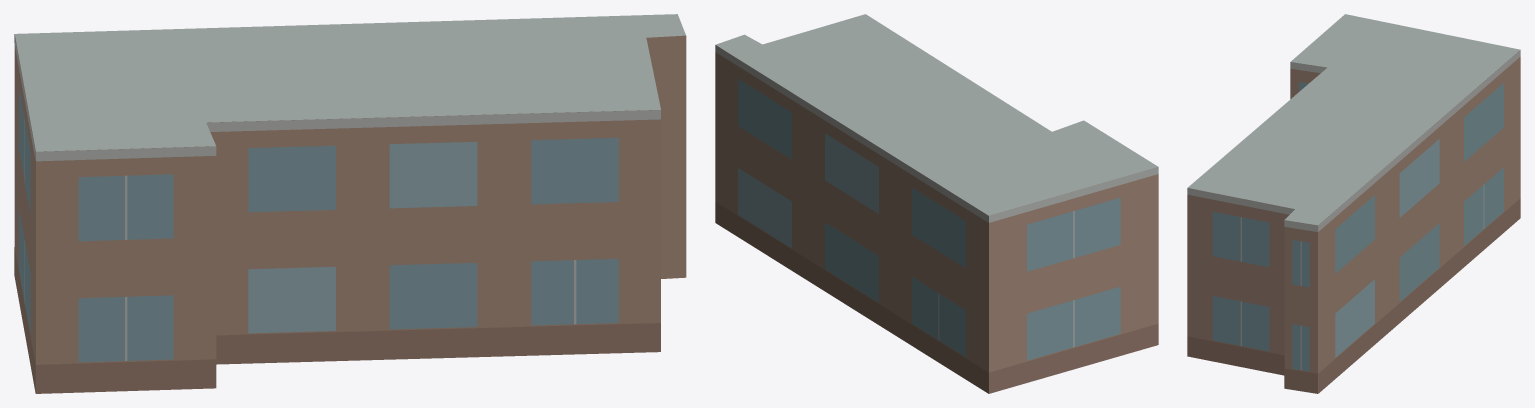
Rendered from survey-upis-32888228.glb.
The picture shows the model from 3 angles, left to right: view 1: azimuth 30°, elevation 25°; view 2: azimuth 150°, elevation 25°; view 3: azimuth 270°, elevation 25°; orthographic projection. The views are drawn at different scales.
Visible parts, largest first — view 1: survey-upis-32888228.tmp; view 2: survey-upis-32888228.tmp; view 3: survey-upis-32888228.tmp.
Part boxes in pixels (bbox=[...]): survey-upis-32888228.tmp: bbox=[14, 14, 686, 393]; survey-upis-32888228.tmp: bbox=[715, 14, 1158, 393]; survey-upis-32888228.tmp: bbox=[1187, 14, 1520, 393].
Bounding box in the file's own units: 16.42 × 6.1 × 10.94.
